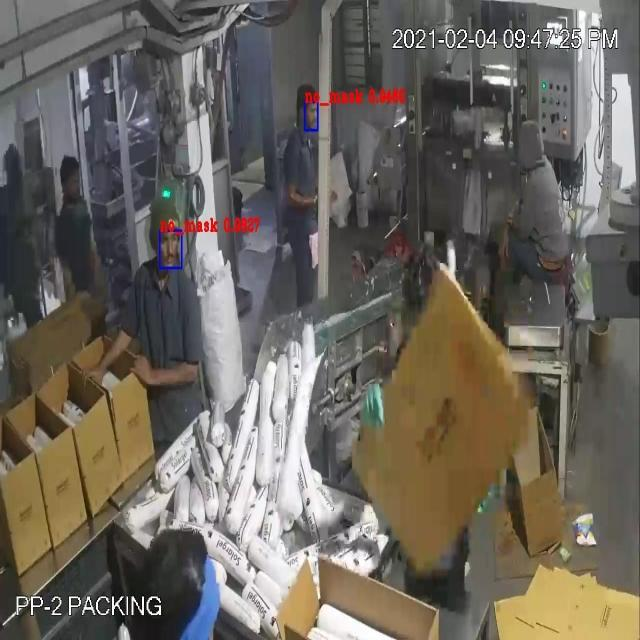No_Gloves: (27, 33, 504, 408)
